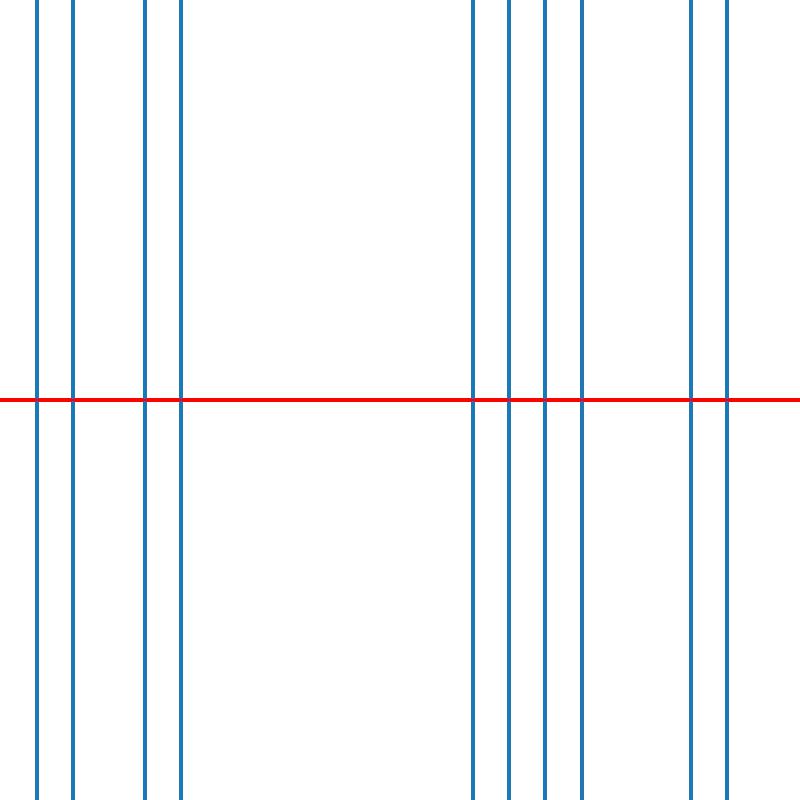root: (32, 396, 40, 404), (541, 396, 549, 404), (141, 396, 149, 404), (687, 396, 694, 404), (578, 396, 585, 404), (469, 396, 476, 404), (723, 396, 730, 404), (69, 396, 76, 404), (178, 396, 185, 404), (505, 396, 512, 404)
